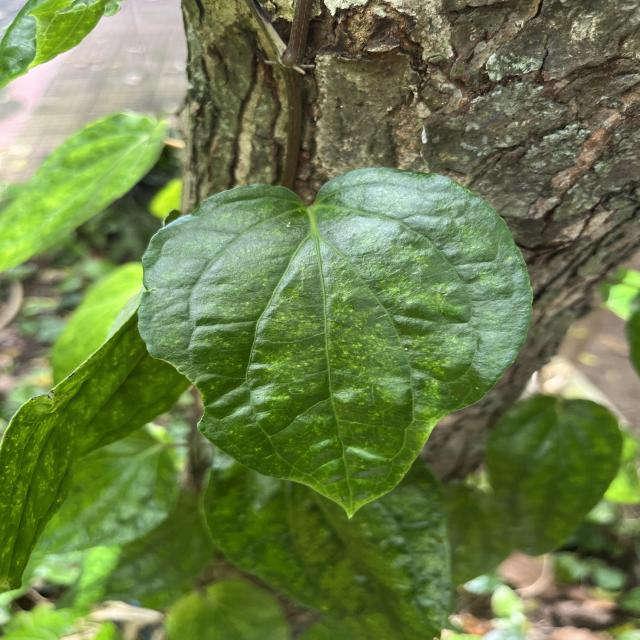Piper betle: (132, 164, 536, 524)
